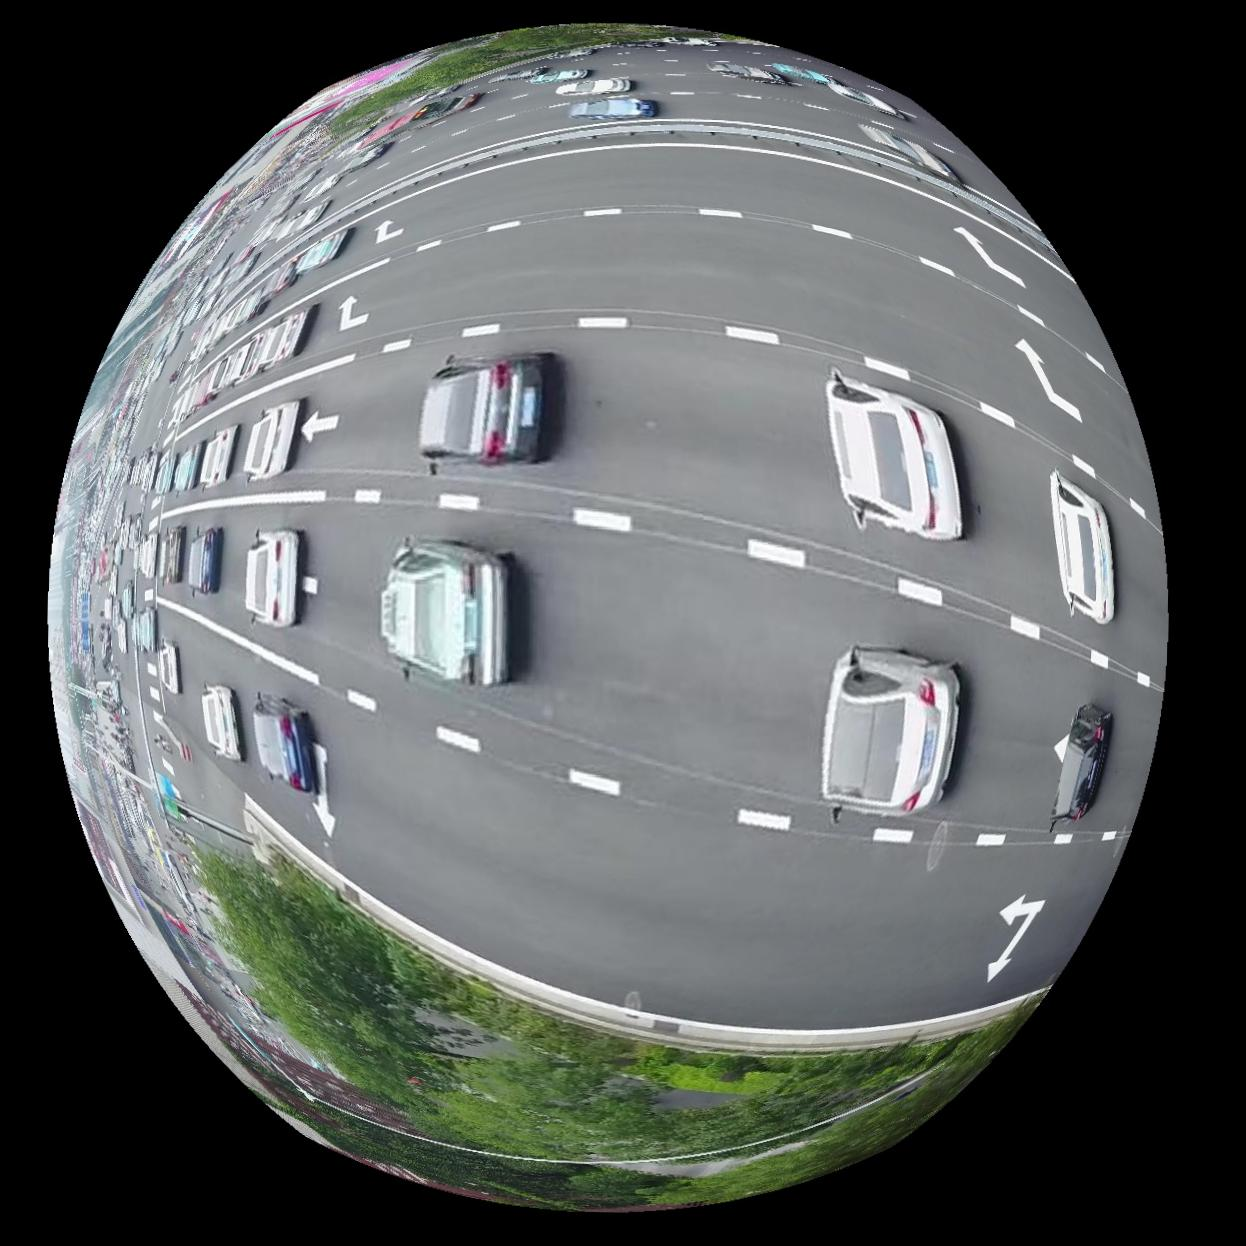cars: (822, 647, 961, 822), (826, 367, 964, 540), (379, 539, 512, 686), (418, 350, 553, 471), (1052, 470, 1116, 623), (1053, 703, 1112, 831), (354, 89, 479, 147), (251, 693, 315, 794), (860, 122, 961, 180), (243, 528, 300, 626), (242, 398, 300, 478), (200, 685, 243, 761), (260, 304, 315, 364), (294, 225, 351, 272), (199, 423, 237, 487), (187, 526, 221, 593), (568, 94, 657, 116), (228, 332, 260, 382), (172, 440, 203, 491), (261, 254, 297, 298), (556, 74, 634, 94), (156, 525, 183, 583), (156, 640, 180, 693)
trees: (199, 855, 1030, 1211), (327, 22, 667, 133)
